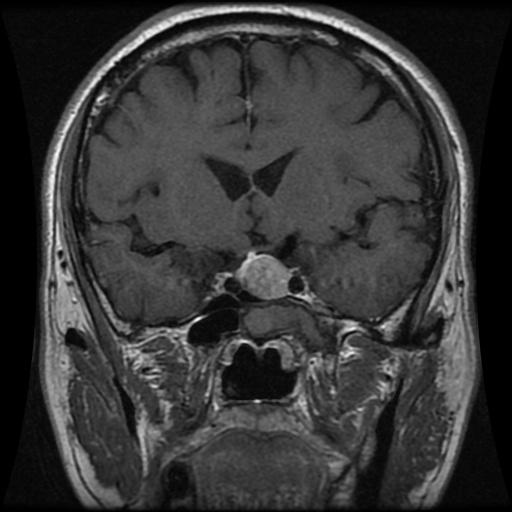pituitary: (237, 253, 290, 299)
